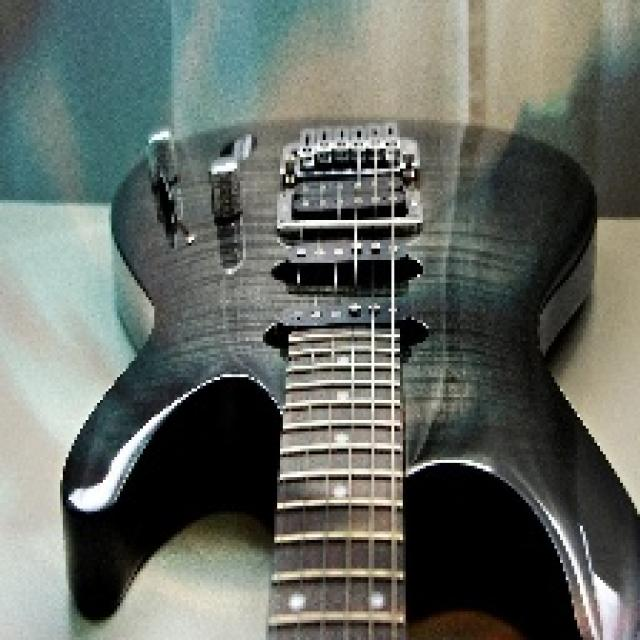guitar: (57, 111, 640, 636)
